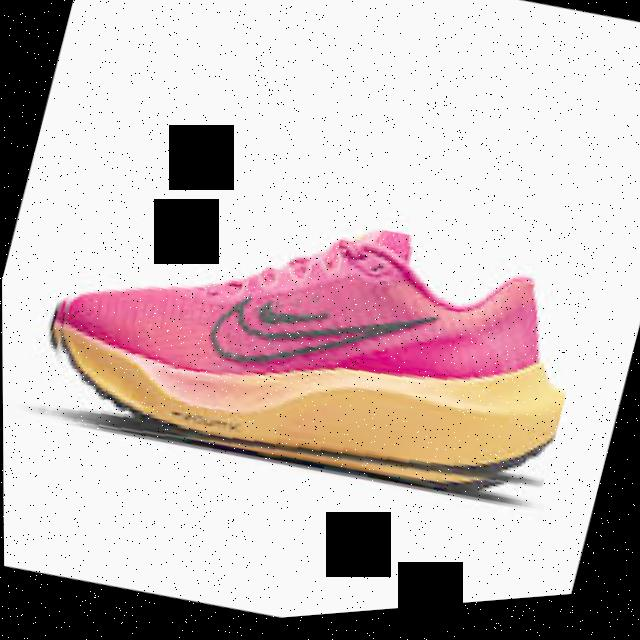shoe: (27, 144, 598, 552)
